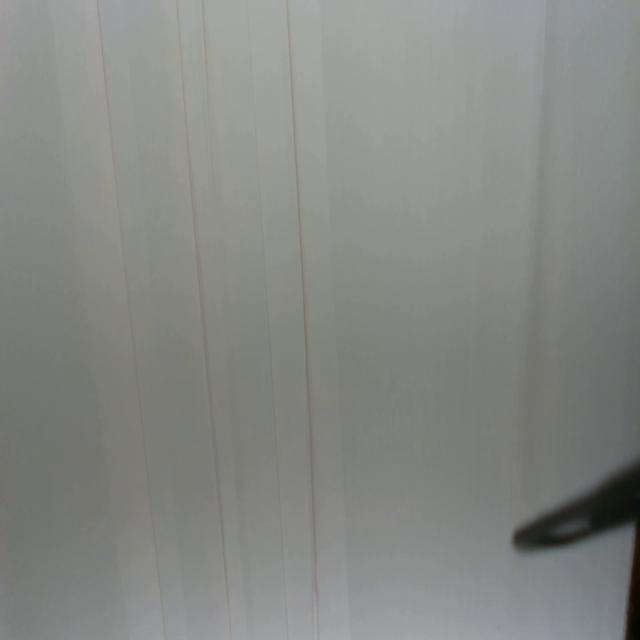crease: (96, 1, 166, 636), (175, 0, 232, 640), (245, 0, 290, 640), (283, 0, 320, 639), (200, 0, 214, 184)
